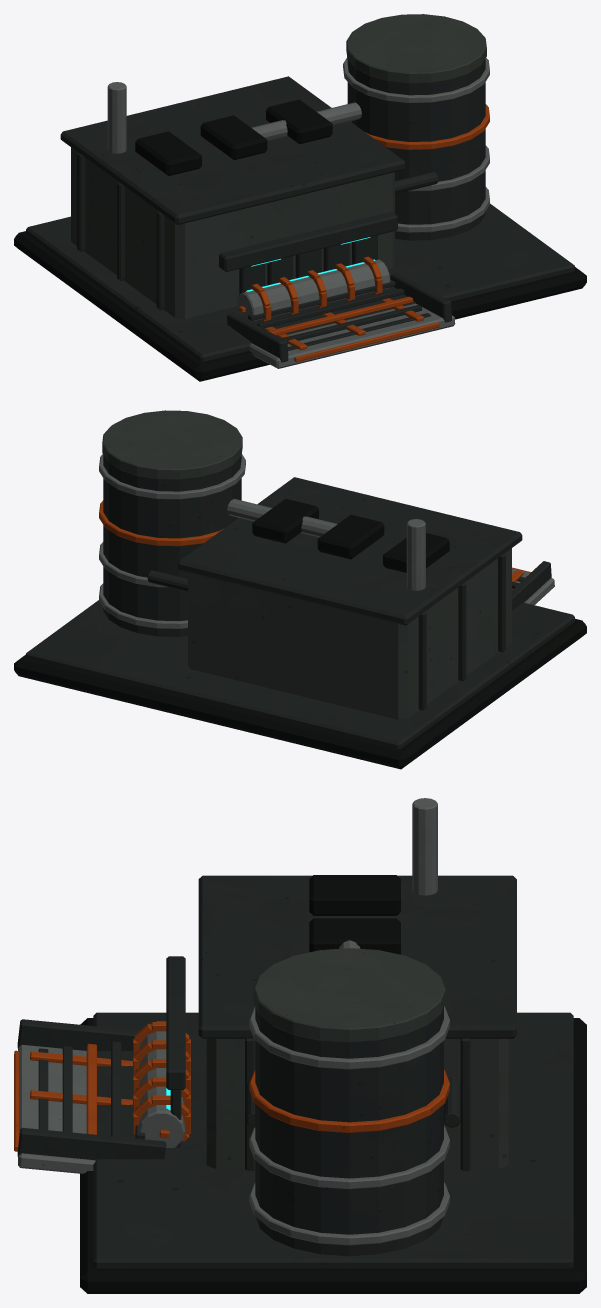
The model's file is ff_ref_01_v1.glb.
The picture shows the model from 3 angles, top to bottom: view 1: azimuth 30°, elevation 25°; view 2: azimuth 150°, elevation 25°; view 3: azimuth 270°, elevation 25°; orthographic projection. The views are drawn at different scales.
Parts seen in each view (by area): view 1: FF_REF_01_M_Gunmetal_runtime, FF_REF_01_M_ArmorPanel_runtime, FF_REF_01_M_Recess_runtime, FF_REF_01_M_Steel_runtime, intake_collector_M_Steel_runtime, intake_conveyor_M_Gunmetal_runtime, intake_gate_M_Gunmetal_runtime, intake_conveyor_M_AmberArmor_runtime, FF_REF_01_M_AmberArmor_runtime, intake_collector_M_AmberArmor_runtime; view 2: FF_REF_01_M_Gunmetal_runtime, FF_REF_01_M_ArmorPanel_runtime, FF_REF_01_M_Recess_runtime, FF_REF_01_M_Steel_runtime, FF_REF_01_M_AmberArmor_runtime; view 3: FF_REF_01_M_Gunmetal_runtime, FF_REF_01_M_ArmorPanel_runtime, FF_REF_01_M_Recess_runtime, FF_REF_01_M_Steel_runtime, FF_REF_01_M_AmberArmor_runtime, intake_collector_M_AmberArmor_runtime, intake_conveyor_M_Gunmetal_runtime, intake_collector_M_Steel_runtime, intake_conveyor_M_AmberArmor_runtime.
Part boxes in pixels (box(x1,y1,x2,y2)): FF_REF_01_M_Gunmetal_runtime: box(26, 59, 574, 362); FF_REF_01_M_ArmorPanel_runtime: box(71, 14, 486, 319); FF_REF_01_M_Recess_runtime: box(14, 99, 586, 381); FF_REF_01_M_Steel_runtime: box(107, 57, 489, 368); intake_collector_M_Steel_runtime: box(237, 259, 390, 323); intake_conveyor_M_Gunmetal_runtime: box(248, 280, 430, 350); intake_gate_M_Gunmetal_runtime: box(239, 235, 377, 315); intake_conveyor_M_AmberArmor_runtime: box(239, 296, 439, 361); FF_REF_01_M_AmberArmor_runtime: box(264, 104, 489, 350); intake_collector_M_AmberArmor_runtime: box(252, 256, 382, 322); FF_REF_01_M_Gunmetal_runtime: box(26, 455, 574, 749); FF_REF_01_M_ArmorPanel_runtime: box(102, 410, 511, 719); FF_REF_01_M_Recess_runtime: box(14, 498, 586, 769); FF_REF_01_M_Steel_runtime: box(99, 454, 554, 628); FF_REF_01_M_AmberArmor_runtime: box(99, 500, 523, 582); FF_REF_01_M_Gunmetal_runtime: box(17, 875, 573, 1268); FF_REF_01_M_ArmorPanel_runtime: box(206, 948, 508, 1169); FF_REF_01_M_Recess_runtime: box(80, 875, 586, 1293); FF_REF_01_M_Steel_runtime: box(18, 798, 449, 1245); FF_REF_01_M_AmberArmor_runtime: box(30, 1051, 449, 1132); intake_collector_M_AmberArmor_runtime: box(133, 1022, 190, 1141); intake_conveyor_M_Gunmetal_runtime: box(38, 1041, 145, 1139); intake_collector_M_Steel_runtime: box(138, 1021, 185, 1147); intake_conveyor_M_AmberArmor_runtime: box(14, 1043, 169, 1151).
Bounding box in the file's own units: 11.4 × 5.43 × 10.62.
Materials: 6 (5 with a texture image).
